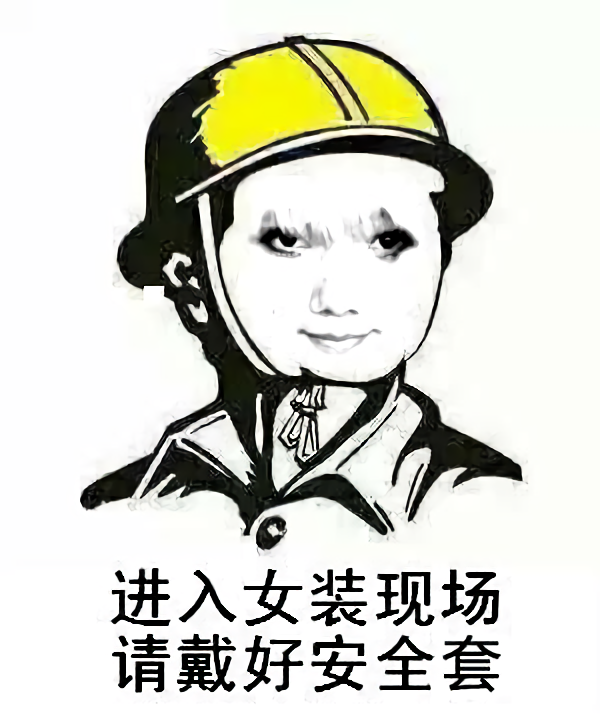dragon: (255, 210, 421, 354)
